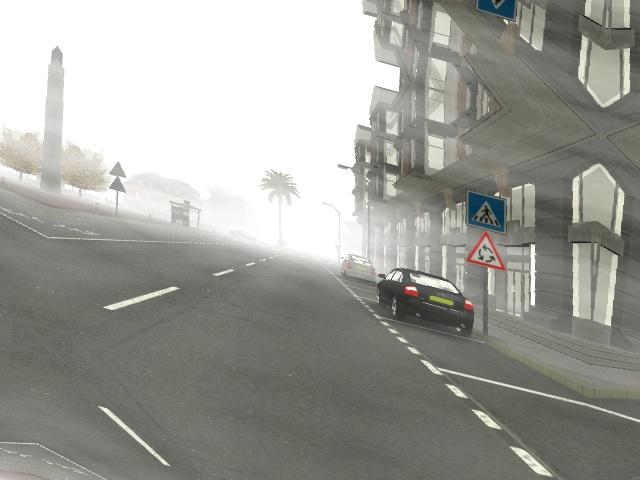Crossroad: (463, 227, 506, 282)
Pedestrian crossing: (455, 185, 515, 232)
